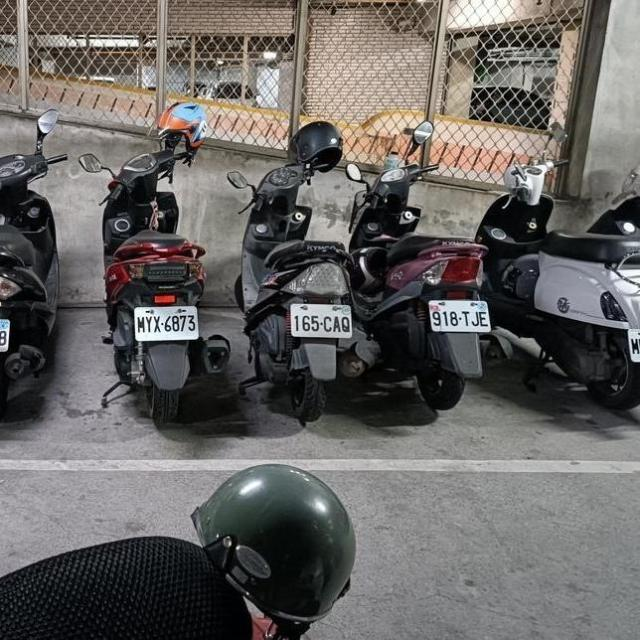W: (423, 293, 493, 336), (131, 300, 200, 343), (286, 298, 353, 340), (621, 318, 640, 368), (0, 311, 12, 355)
